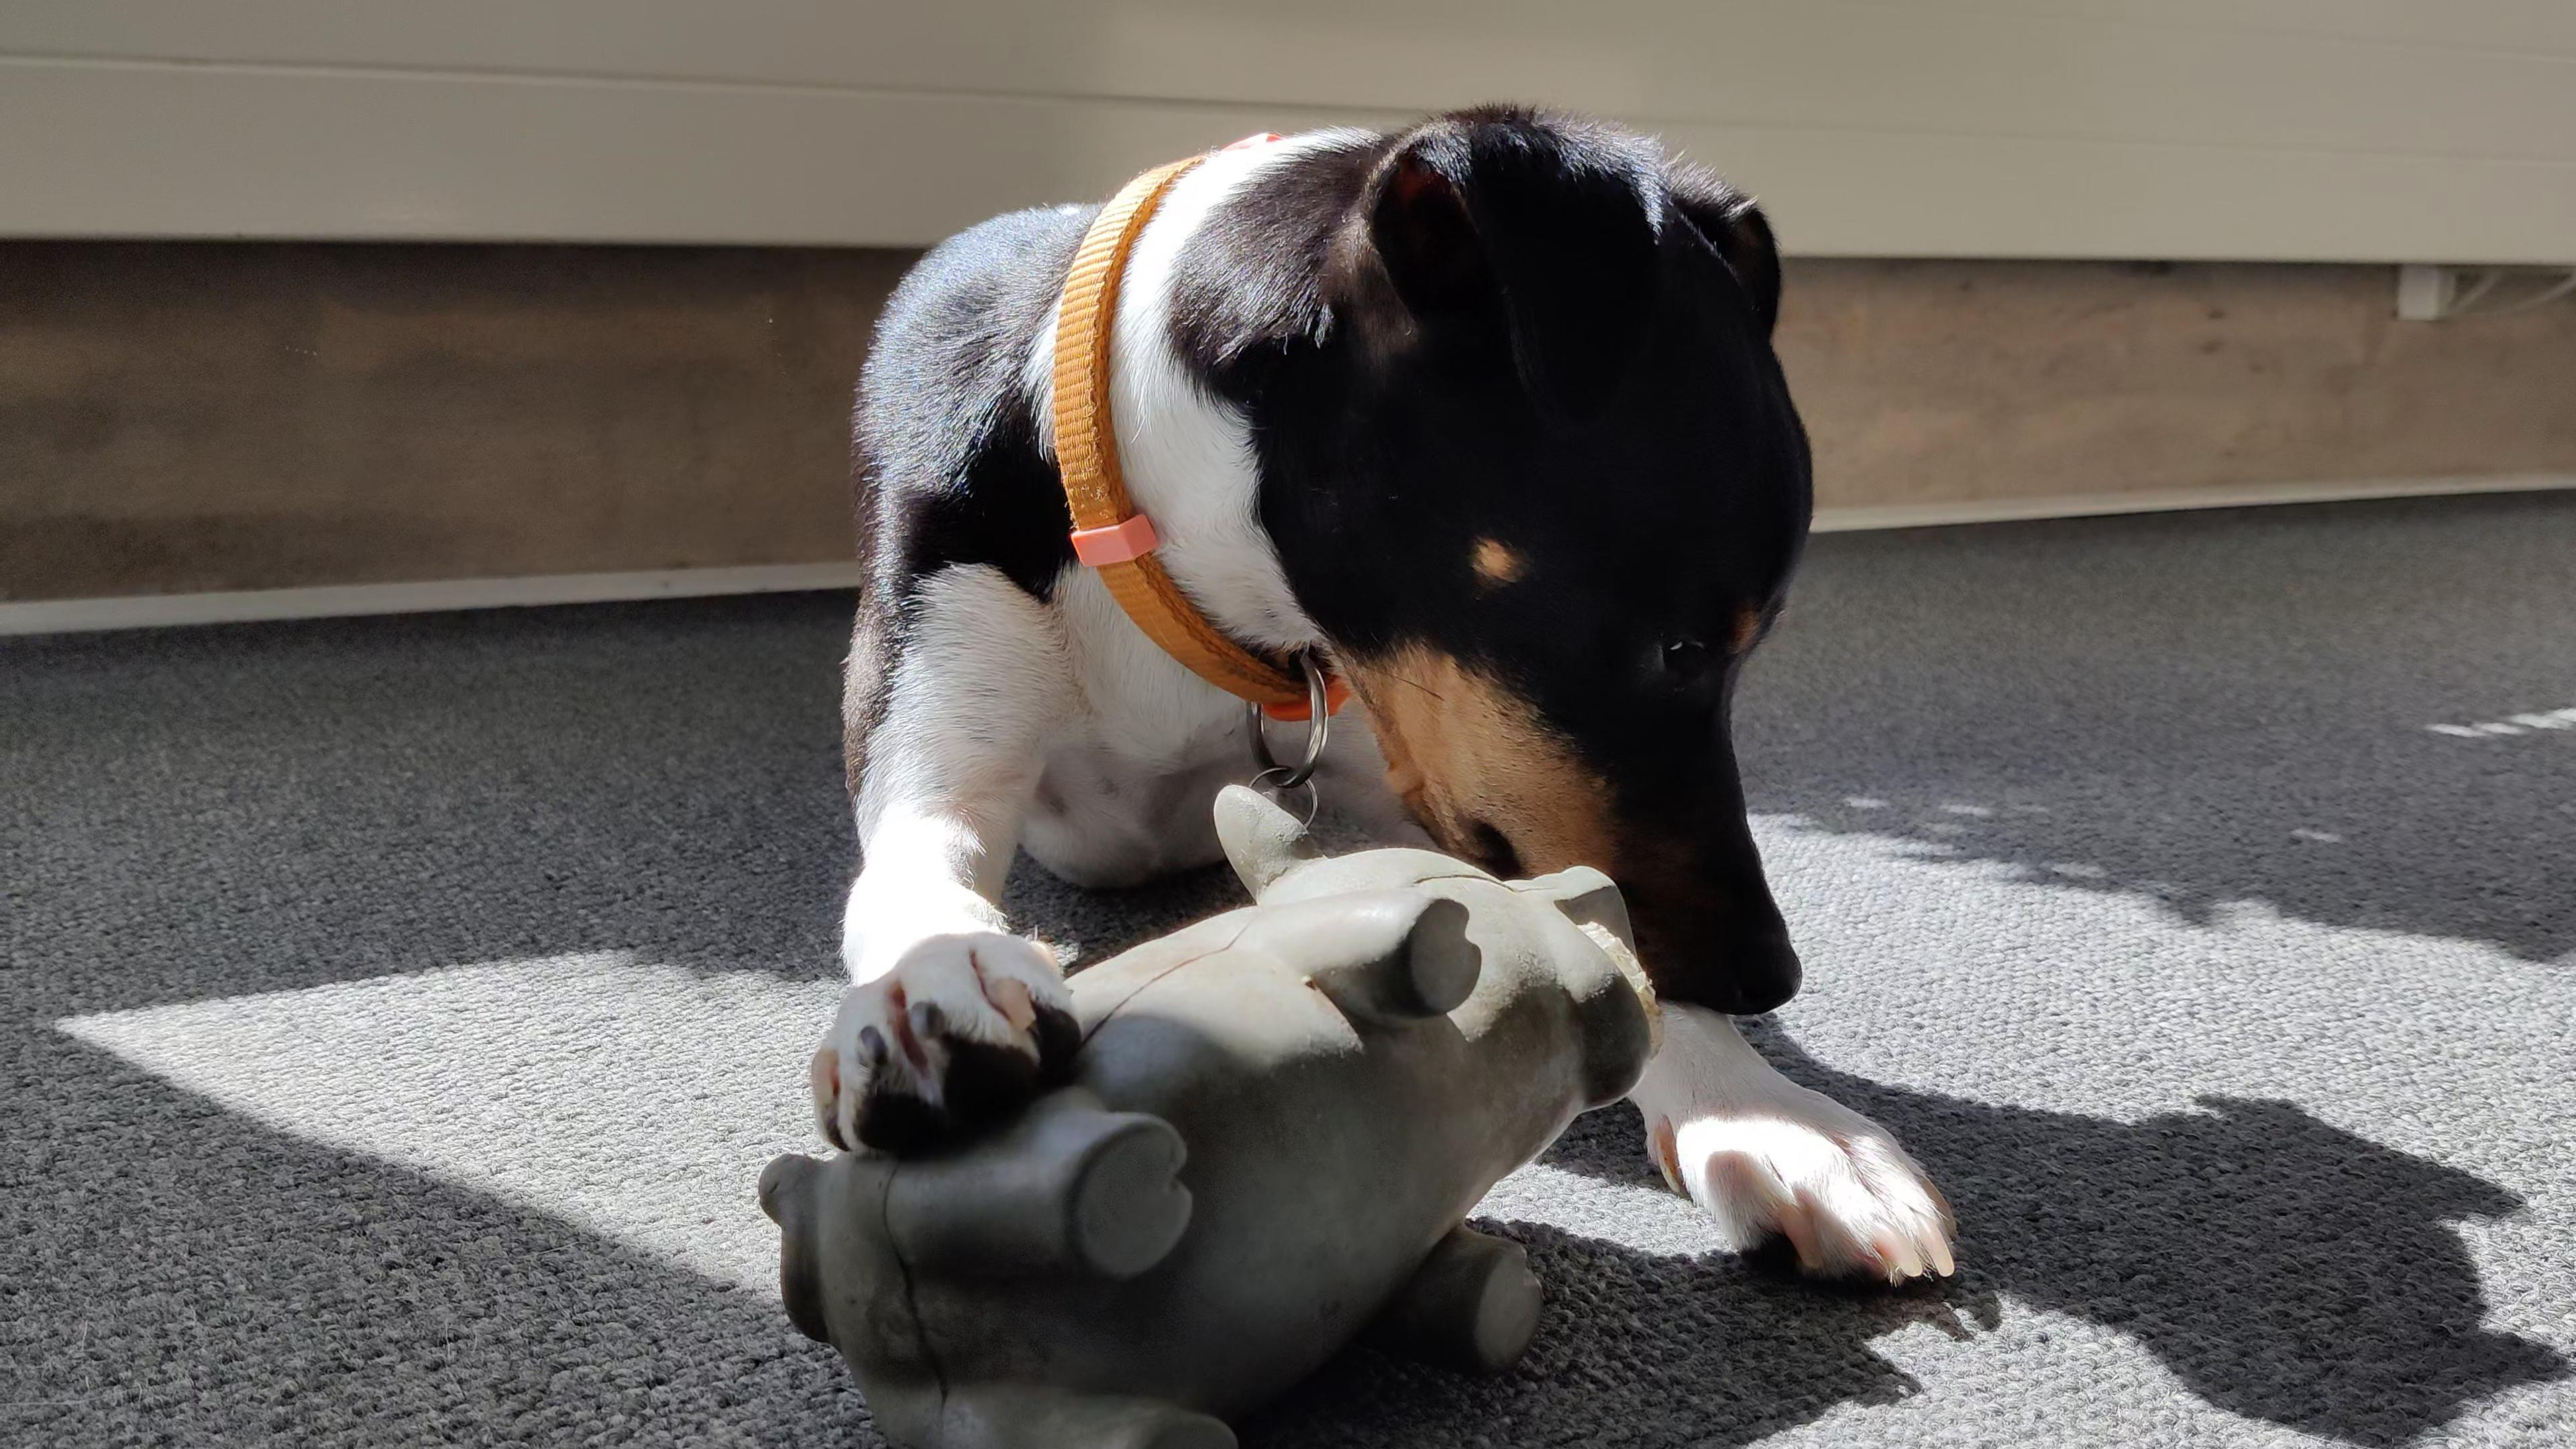Dog: (770, 80, 2008, 1299)
